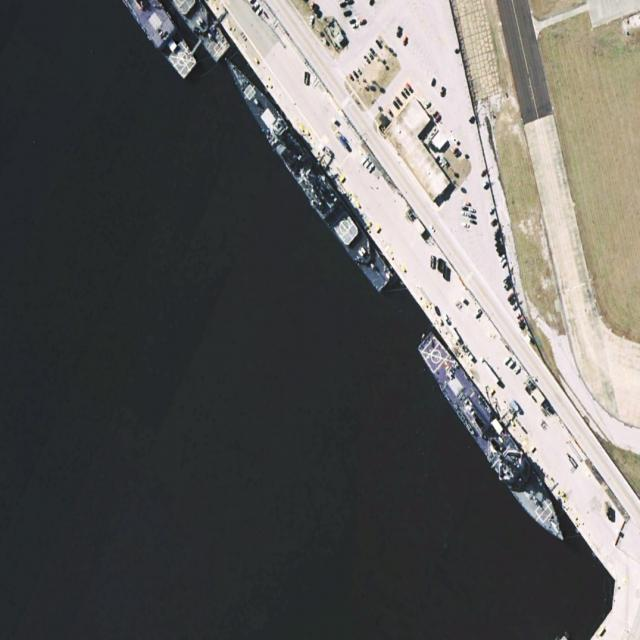Cruiser: (217, 46, 397, 297)
Destroyer: (412, 324, 575, 554)
